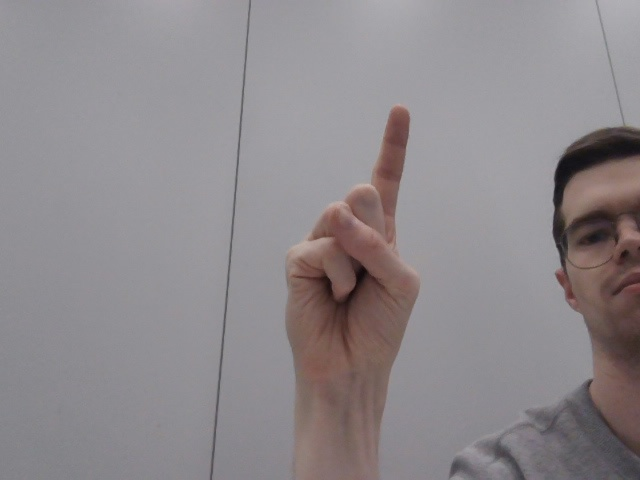up: (259, 84, 422, 399)
